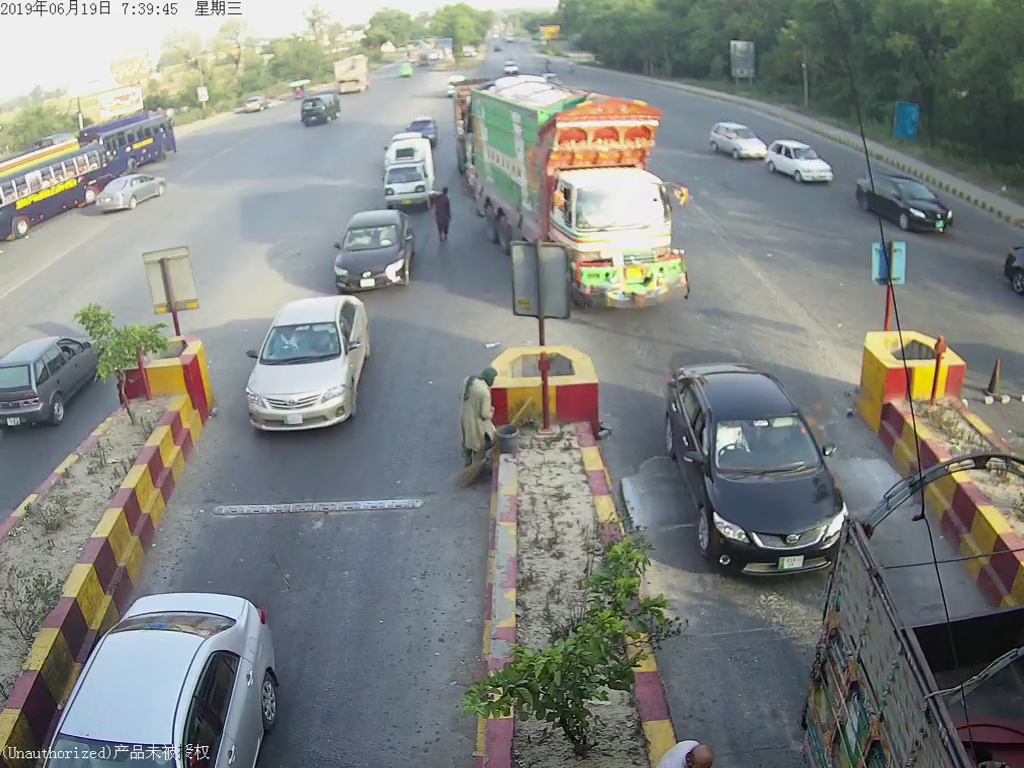Cat-1: (672, 369, 836, 576), (239, 296, 377, 427), (329, 208, 414, 286), (377, 134, 433, 208)
Cat-4: (451, 78, 690, 305)
